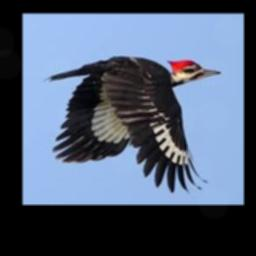Woodpecker: (42, 55, 221, 192)
